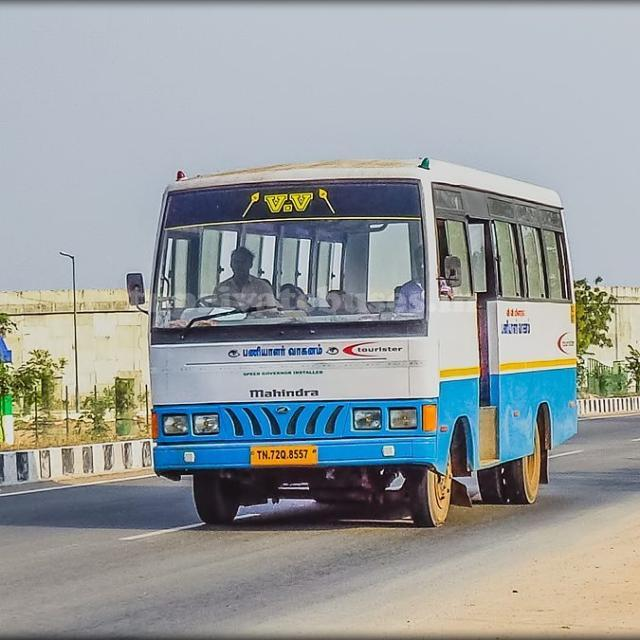Bus: (122, 153, 578, 533)
